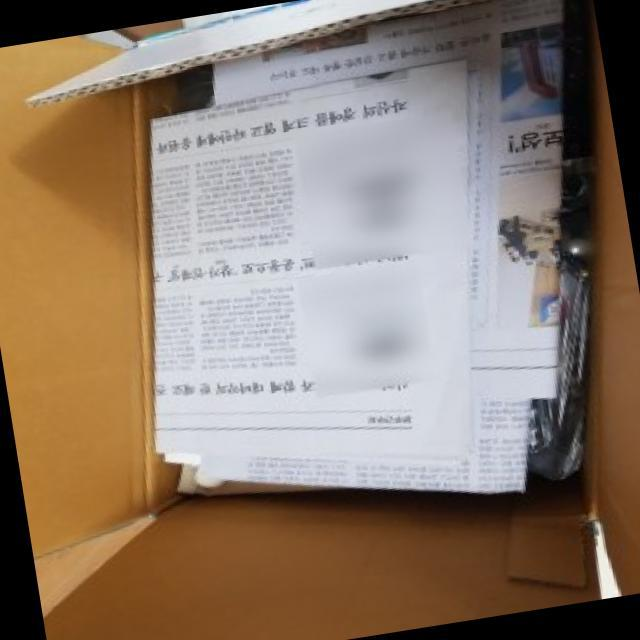reuseable_paper: (116, 0, 632, 520)
